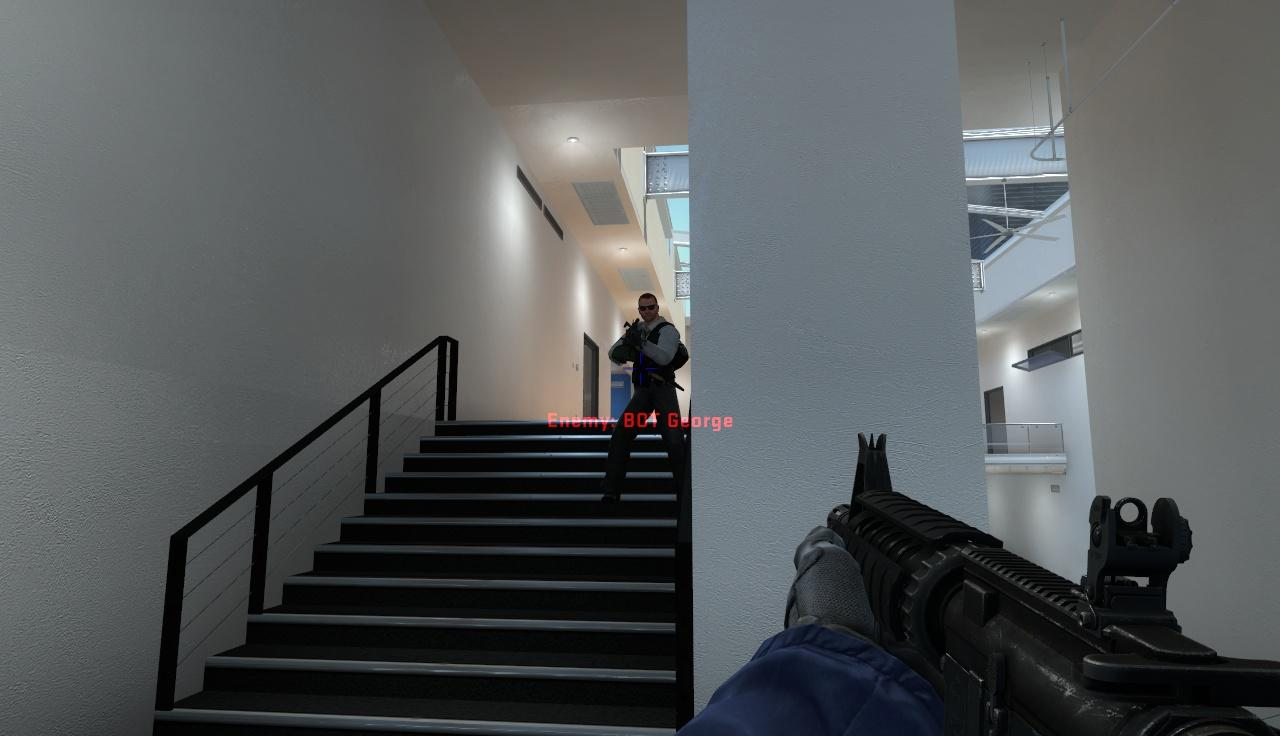rifle: (802, 415, 1280, 736)
tt: (615, 294, 682, 485)
tthead: (638, 292, 659, 321)
